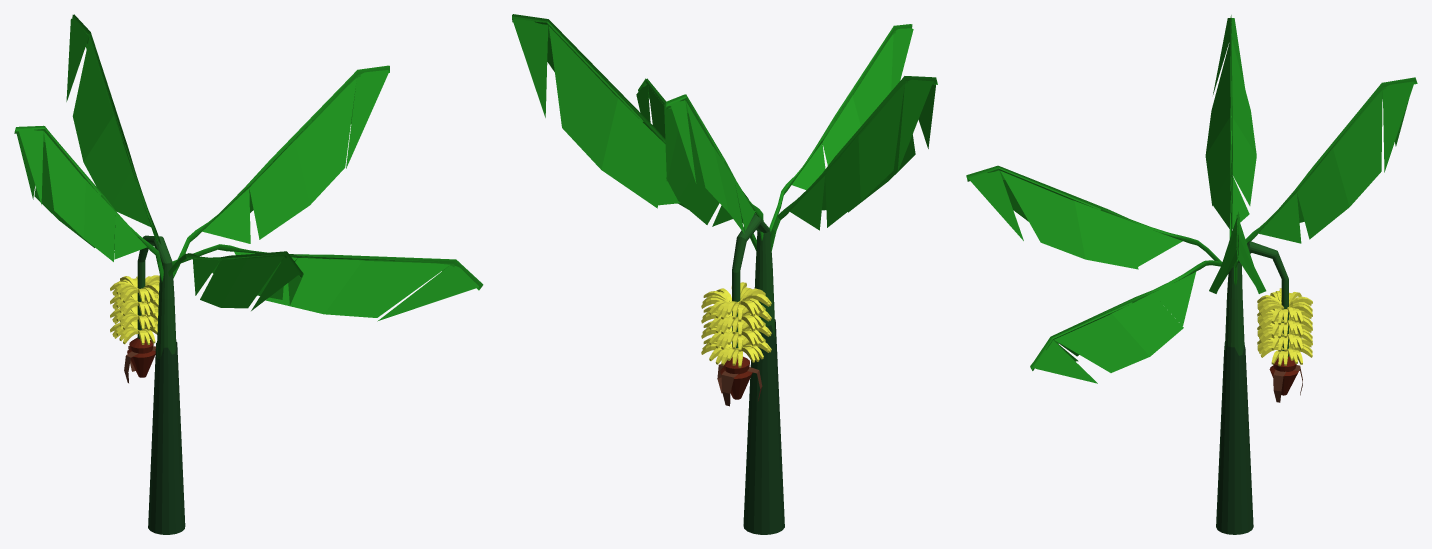
The model's file is phn pisang.fbx.
3 renders of one model, left to right at view 1: azimuth 30°, elevation 25°; view 2: azimuth 150°, elevation 25°; view 3: azimuth 270°, elevation 25°, orthographic. The views are drawn at different scales.
Parts seen in each view (by area): view 1: Cylinder.001, Circle.002, Cube.002, Circle.001; view 2: Cylinder.001, Circle.002, Cube.002, Circle.001; view 3: Cylinder.001, Circle.002, Cube.002, Circle.001.
Boxes of the visible parts, x1=… form: Cylinder.001: x1=14, y1=14, x2=483, y2=321; Circle.002: x1=137, y1=235, x2=185, y2=534; Cube.002: x1=110, y1=275, x2=159, y2=344; Circle.001: x1=124, y1=337, x2=155, y2=383; Cylinder.001: x1=512, y1=14, x2=937, y2=252; Circle.002: x1=732, y1=214, x2=784, y2=534; Cube.002: x1=701, y1=282, x2=771, y2=367; Circle.001: x1=717, y1=356, x2=762, y2=406; Cylinder.001: x1=966, y1=15, x2=1417, y2=383; Circle.002: x1=1216, y1=241, x2=1288, y2=534; Cube.002: x1=1257, y1=288, x2=1312, y2=366; Circle.001: x1=1269, y1=356, x2=1302, y2=402.
Size of the model in its own units: 24.57 by 27.75 by 25.34.
